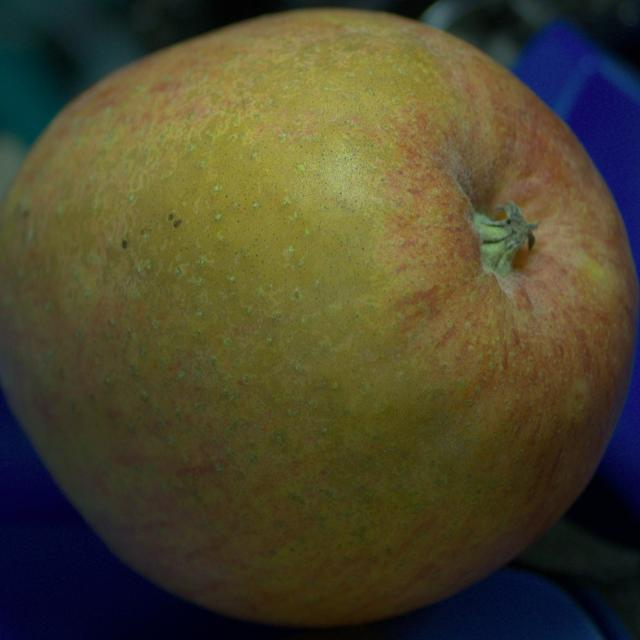apple: (0, 9, 639, 626)
pest: (174, 219, 181, 227), (122, 240, 126, 248), (168, 214, 174, 219)
